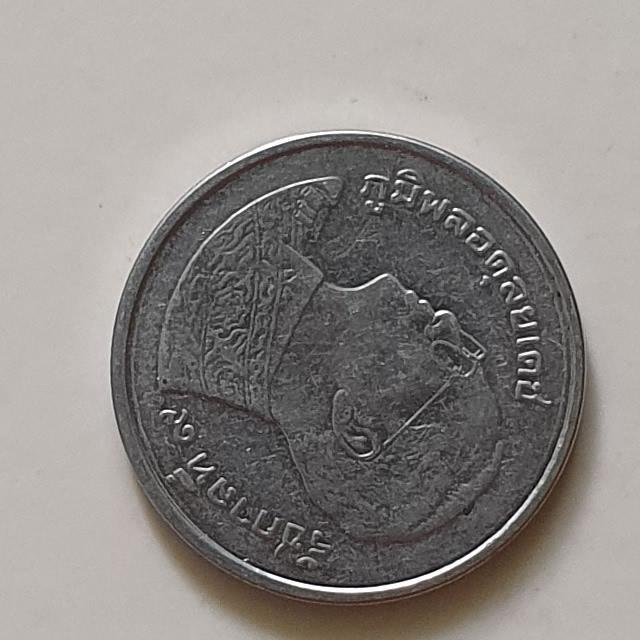1 Bath: (102, 123, 593, 609)
